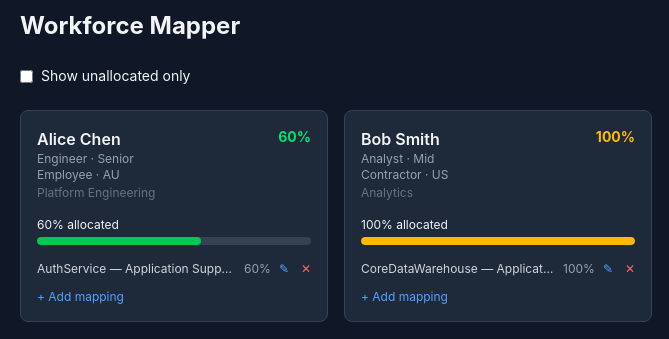
it: MappingView › unallocated filter hides resources with total allocation >= 100%
Expected: the text "Alice Chen" is shown, [37,129,121,149]
Click the checkbox labelled "Show unallocated only".
click(26, 76)  # box [20,70,33,82]
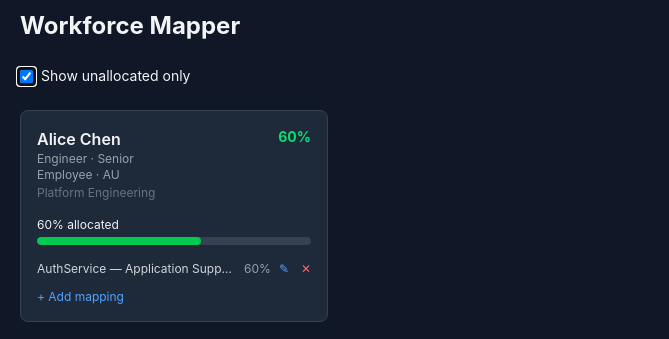
Expected: the text "Alice Chen" is shown, [37,129,121,149]
Expected: the text "Bob Smith" is gone
